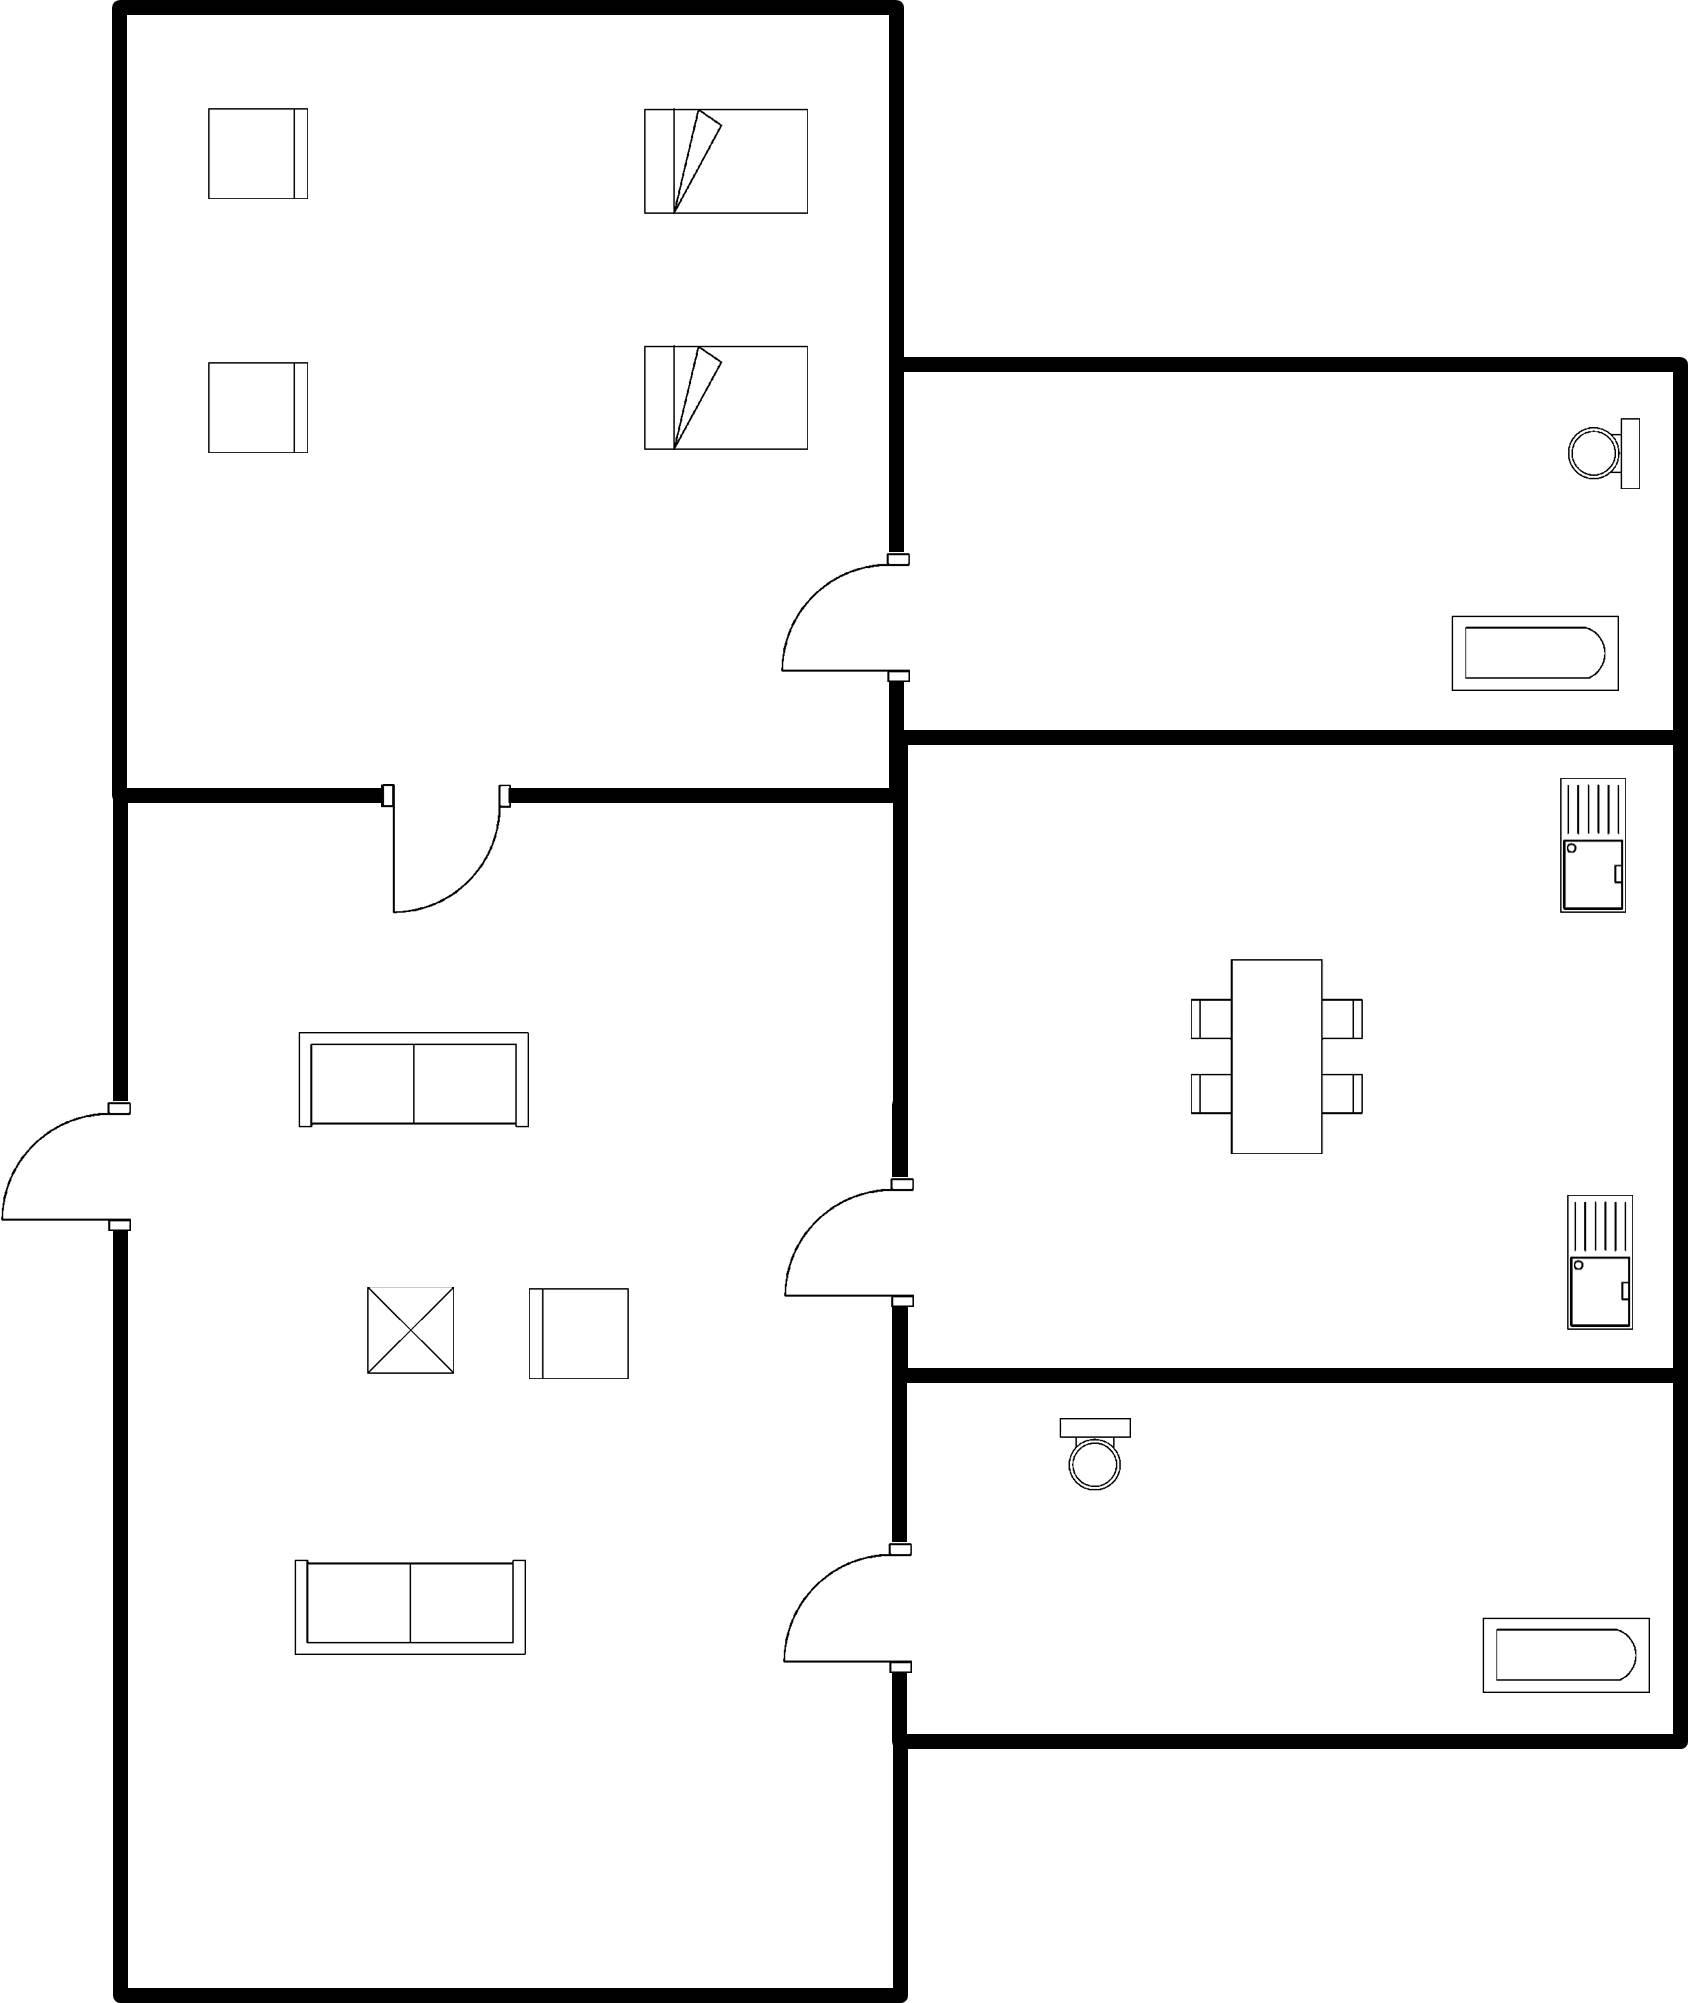bed: (626, 332, 826, 464), (631, 94, 821, 233)
dining_table: (1166, 941, 1375, 1164)
sink: (1541, 764, 1634, 929), (1549, 1181, 1644, 1343)
sofa: (281, 1013, 543, 1146), (271, 1546, 539, 1671), (193, 92, 322, 218), (196, 348, 318, 466)
toilet: (1043, 1402, 1139, 1504), (1556, 402, 1651, 501)
tub: (1464, 1603, 1660, 1708), (1437, 598, 1633, 702)
